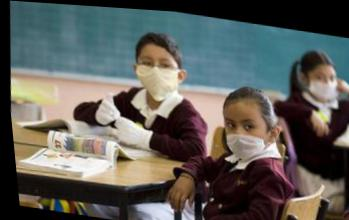OK: (132, 46, 180, 98), (306, 61, 340, 102)
WRONG: (218, 104, 268, 161)
